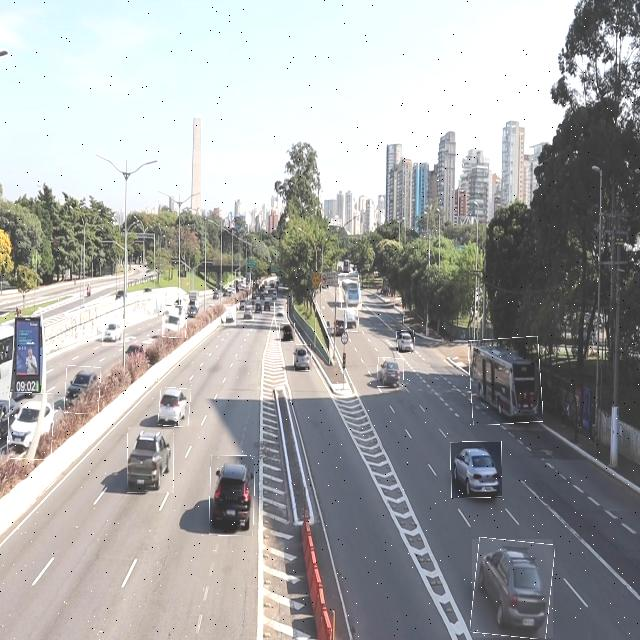Bus: (470, 337, 542, 424), (339, 273, 361, 310)
Car: (472, 539, 553, 638), (210, 456, 254, 536), (128, 427, 174, 493), (8, 393, 53, 460), (451, 442, 502, 498), (65, 365, 101, 414), (159, 388, 190, 426), (162, 306, 187, 338), (378, 358, 404, 387), (102, 319, 125, 346), (294, 345, 312, 371), (396, 330, 415, 353), (346, 303, 358, 332), (280, 324, 295, 342), (224, 304, 236, 326), (274, 302, 285, 320), (244, 305, 254, 321)
